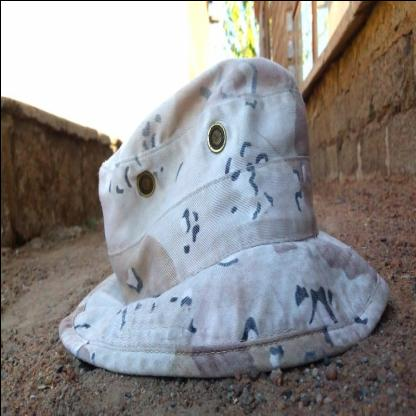hat: (54, 51, 392, 382)
